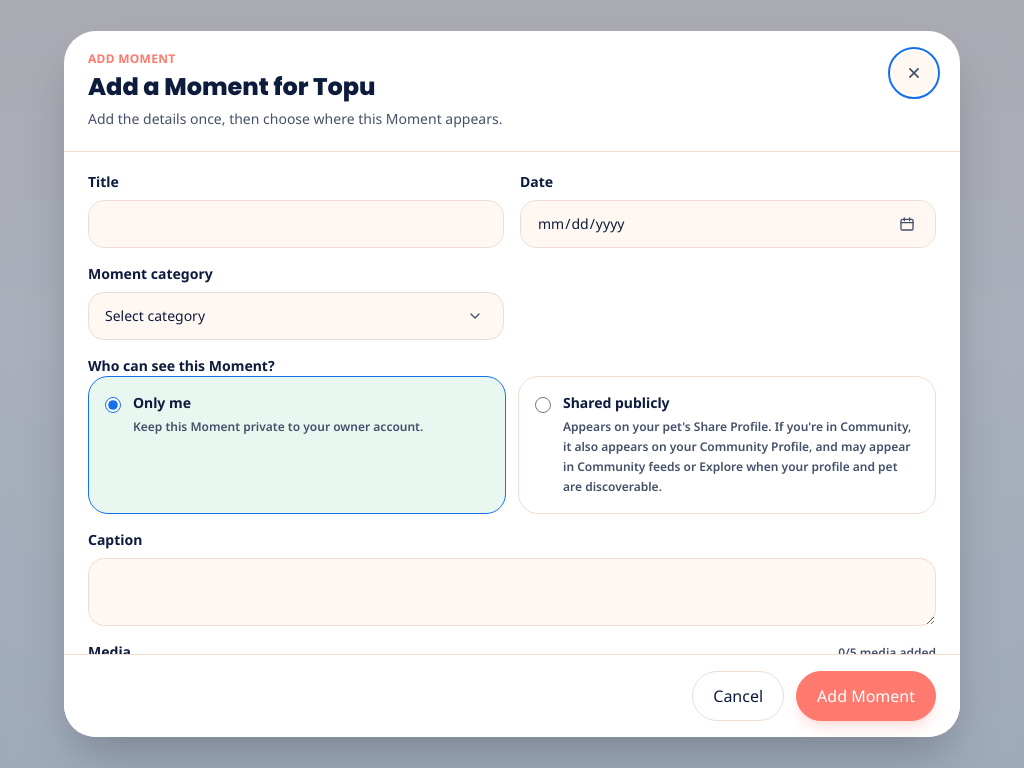
it: MomentEditorDialog › keeps validation and submission behavior identical in create mode
Step 1. Click the button "Add Moment" → (866, 696), box [796,671,936,721]
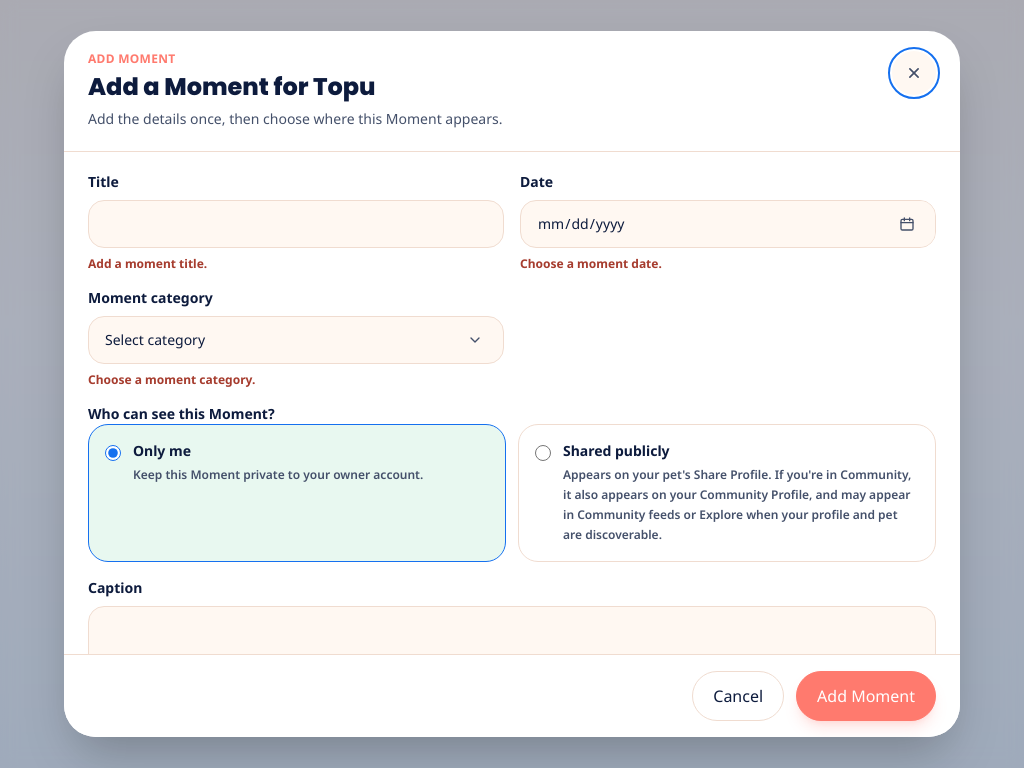
Now the text "Add a moment title." is shown, box [88,255,207,272]
Now the text "Choose a moment date." is shown, box [520,255,662,272]
Now the text "Choose a moment category." is shown, box [88,371,255,388]
